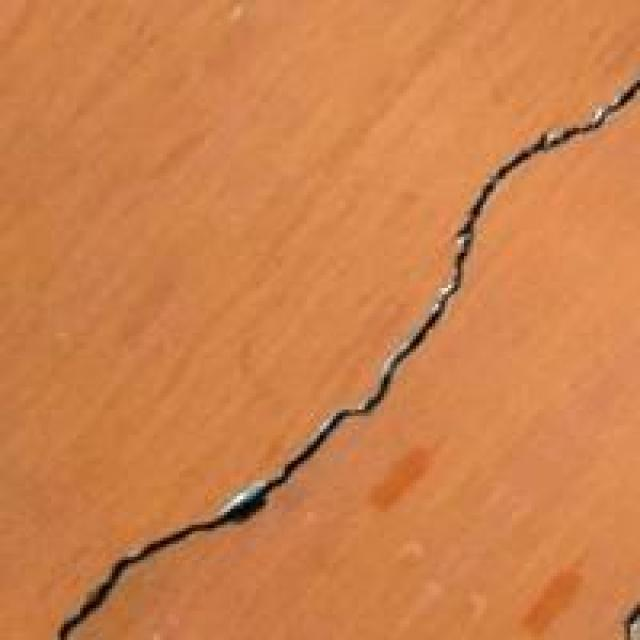crack: (3, 64, 637, 637)
